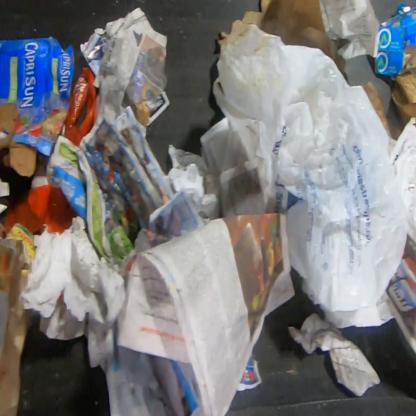cardboard: (0, 38, 74, 175), (218, 0, 336, 59), (374, 3, 415, 76), (363, 82, 391, 138), (392, 70, 415, 127)
soft_plastic: (212, 27, 406, 314), (4, 173, 79, 236), (59, 69, 96, 150)
